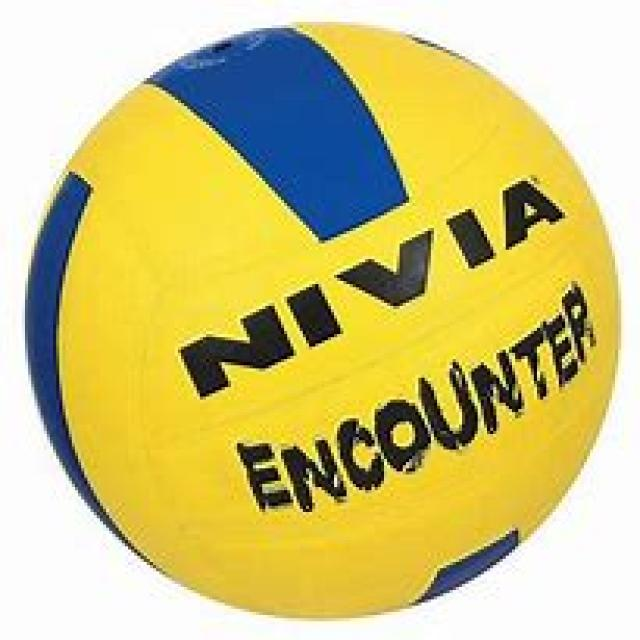Volleyball: (21, 24, 624, 620)
